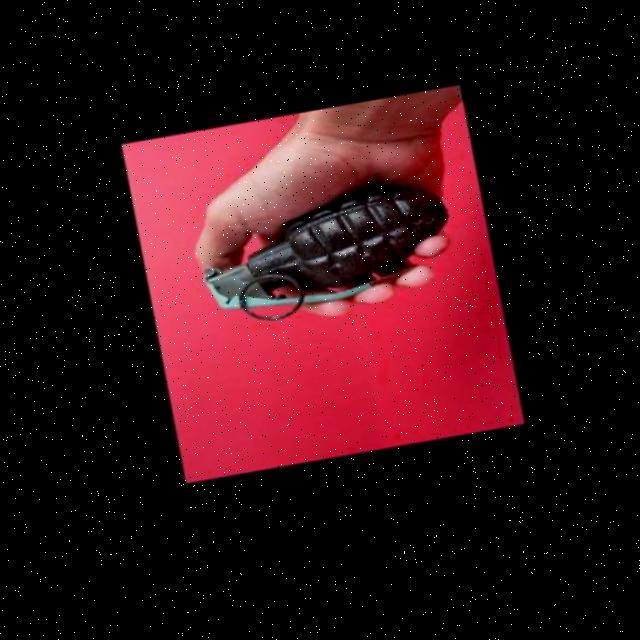grenade: (157, 134, 492, 375)
